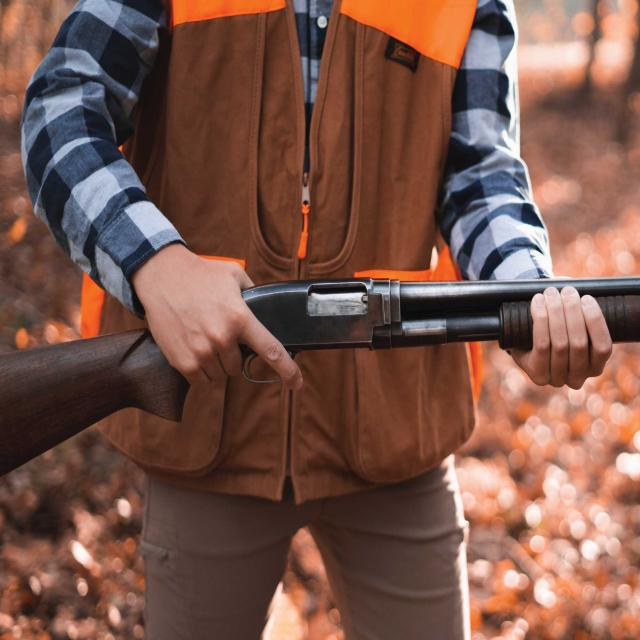ShotGun: (0, 278, 640, 465)
